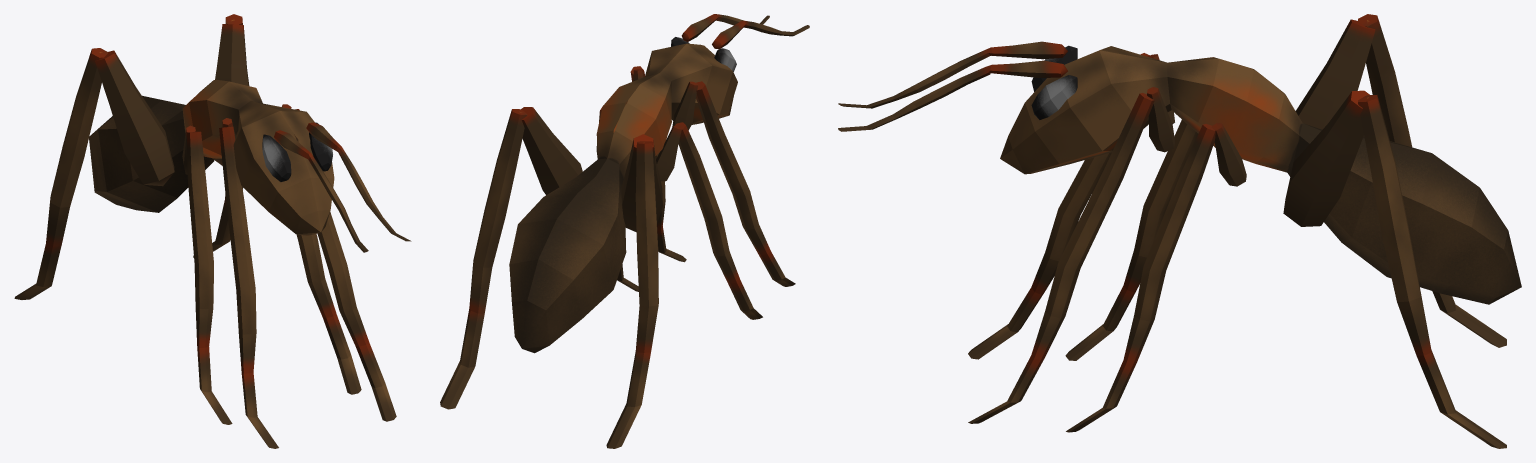
Rendered from Ant.fbx.
3 views of the same model, side by side, from view 1: azimuth 30°, elevation 25°; view 2: azimuth 150°, elevation 25°; view 3: azimuth 270°, elevation 25° (orthographic). The views are drawn at different scales.
Parts seen in each view (by area): view 1: pCylinder13; view 2: pCylinder13; view 3: pCylinder13.
Boxes of the visible parts, <box> form: pCylinder13: <box>14,14,411,448</box>; pCylinder13: <box>440,14,809,448</box>; pCylinder13: <box>838,14,1521,448</box>.
Size of the model in its own units: 2.83 by 3.93 by 7.07.
Materials: 1 (1 with a texture image).
